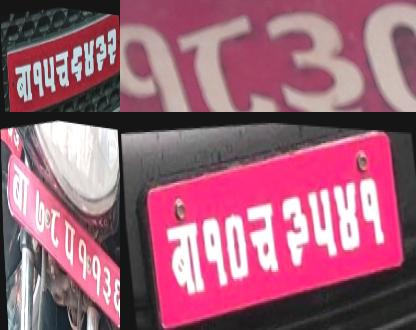0: (348, 0, 416, 112), (219, 205, 250, 284)
1: (120, 8, 194, 112), (354, 167, 387, 253), (195, 209, 228, 294), (90, 246, 102, 305), (76, 228, 89, 280), (31, 57, 44, 103)
2: (106, 23, 119, 68)
3: (254, 0, 370, 112), (276, 185, 313, 273), (100, 252, 112, 309), (95, 30, 108, 75)
4: (329, 173, 363, 257), (82, 35, 96, 80)
5: (303, 177, 338, 264), (42, 52, 56, 99)
6: (70, 40, 84, 87), (110, 267, 120, 318)
7: (33, 182, 46, 238)
8: (167, 3, 275, 112), (48, 196, 62, 256)
ba: (160, 209, 207, 303), (9, 155, 30, 219), (12, 58, 34, 109)
cha: (241, 195, 280, 279), (53, 47, 70, 95)
pa: (61, 211, 78, 269)
